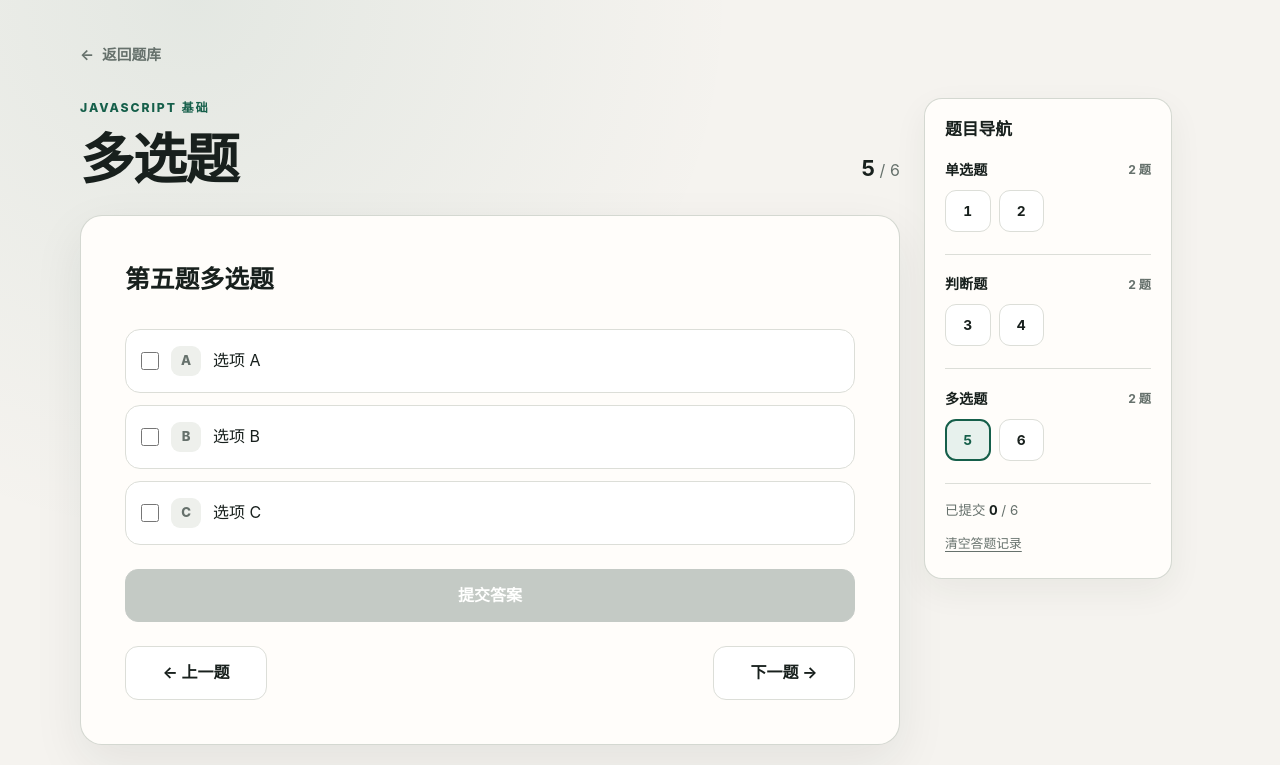
PracticePage › allows multiple selection and submits the complete set
Expected: the text "第五题多选题" is shown, x1=125 y1=264 x2=274 y2=294
What coordinates should you click on to do the following:
click the checkbox labelled "A 选项 A"
I would click on:
 (150, 361)
Its box is x1=141 y1=352 x2=159 y2=370.
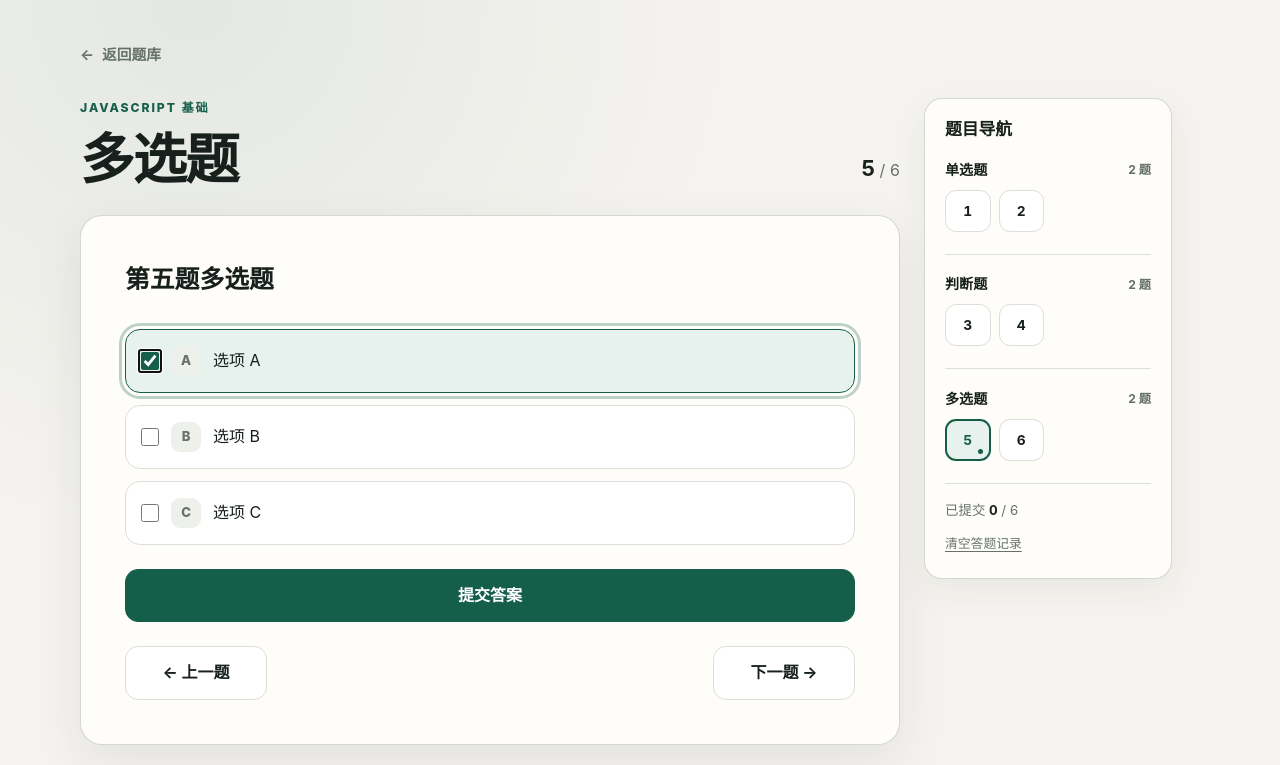
What coordinates should you click on to do the following:
click the checkbox labelled "B 选项 B"
I would click on:
 (150, 437)
Its box is x1=141 y1=428 x2=159 y2=446.
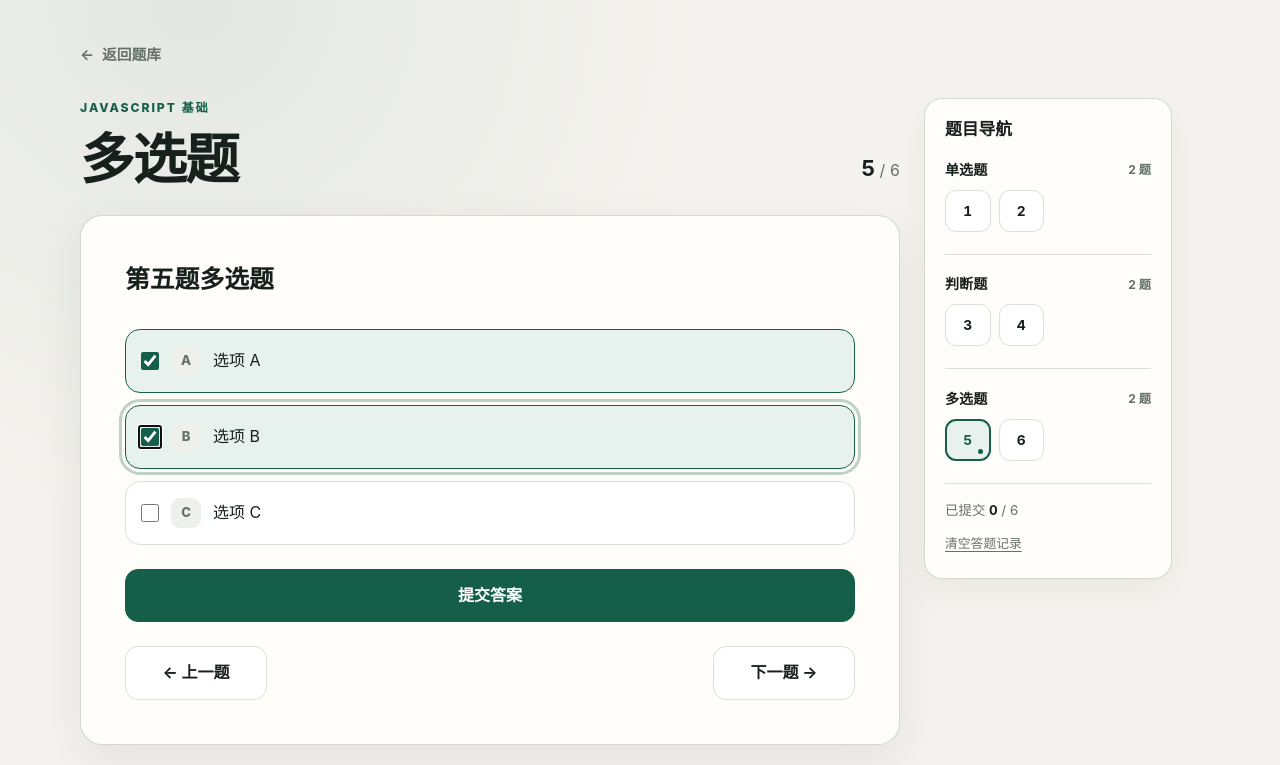
What coordinates should you click on to do the following:
click the button "提交答案"
I would click on:
 (490, 595)
Its box is x1=125 y1=569 x2=855 y2=622.
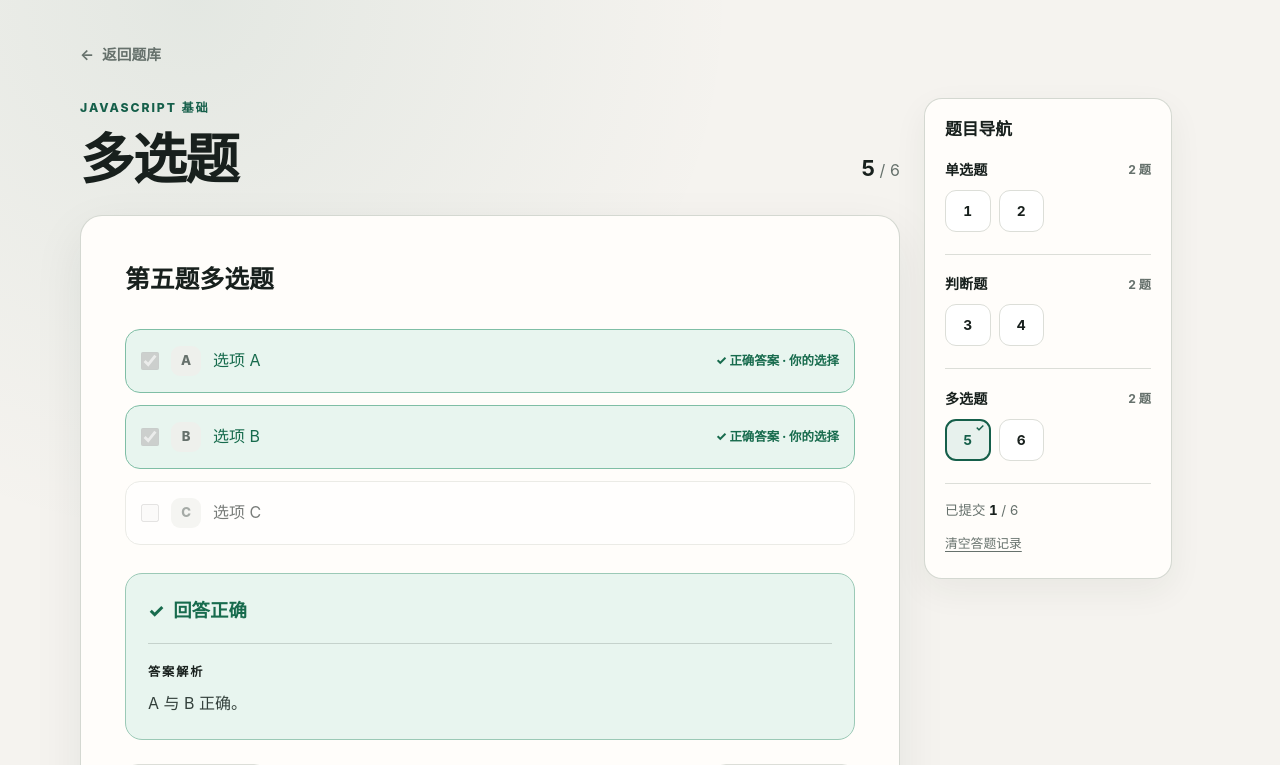
Expected: the text "回答正确" is shown, x1=173 y1=599 x2=247 y2=621
